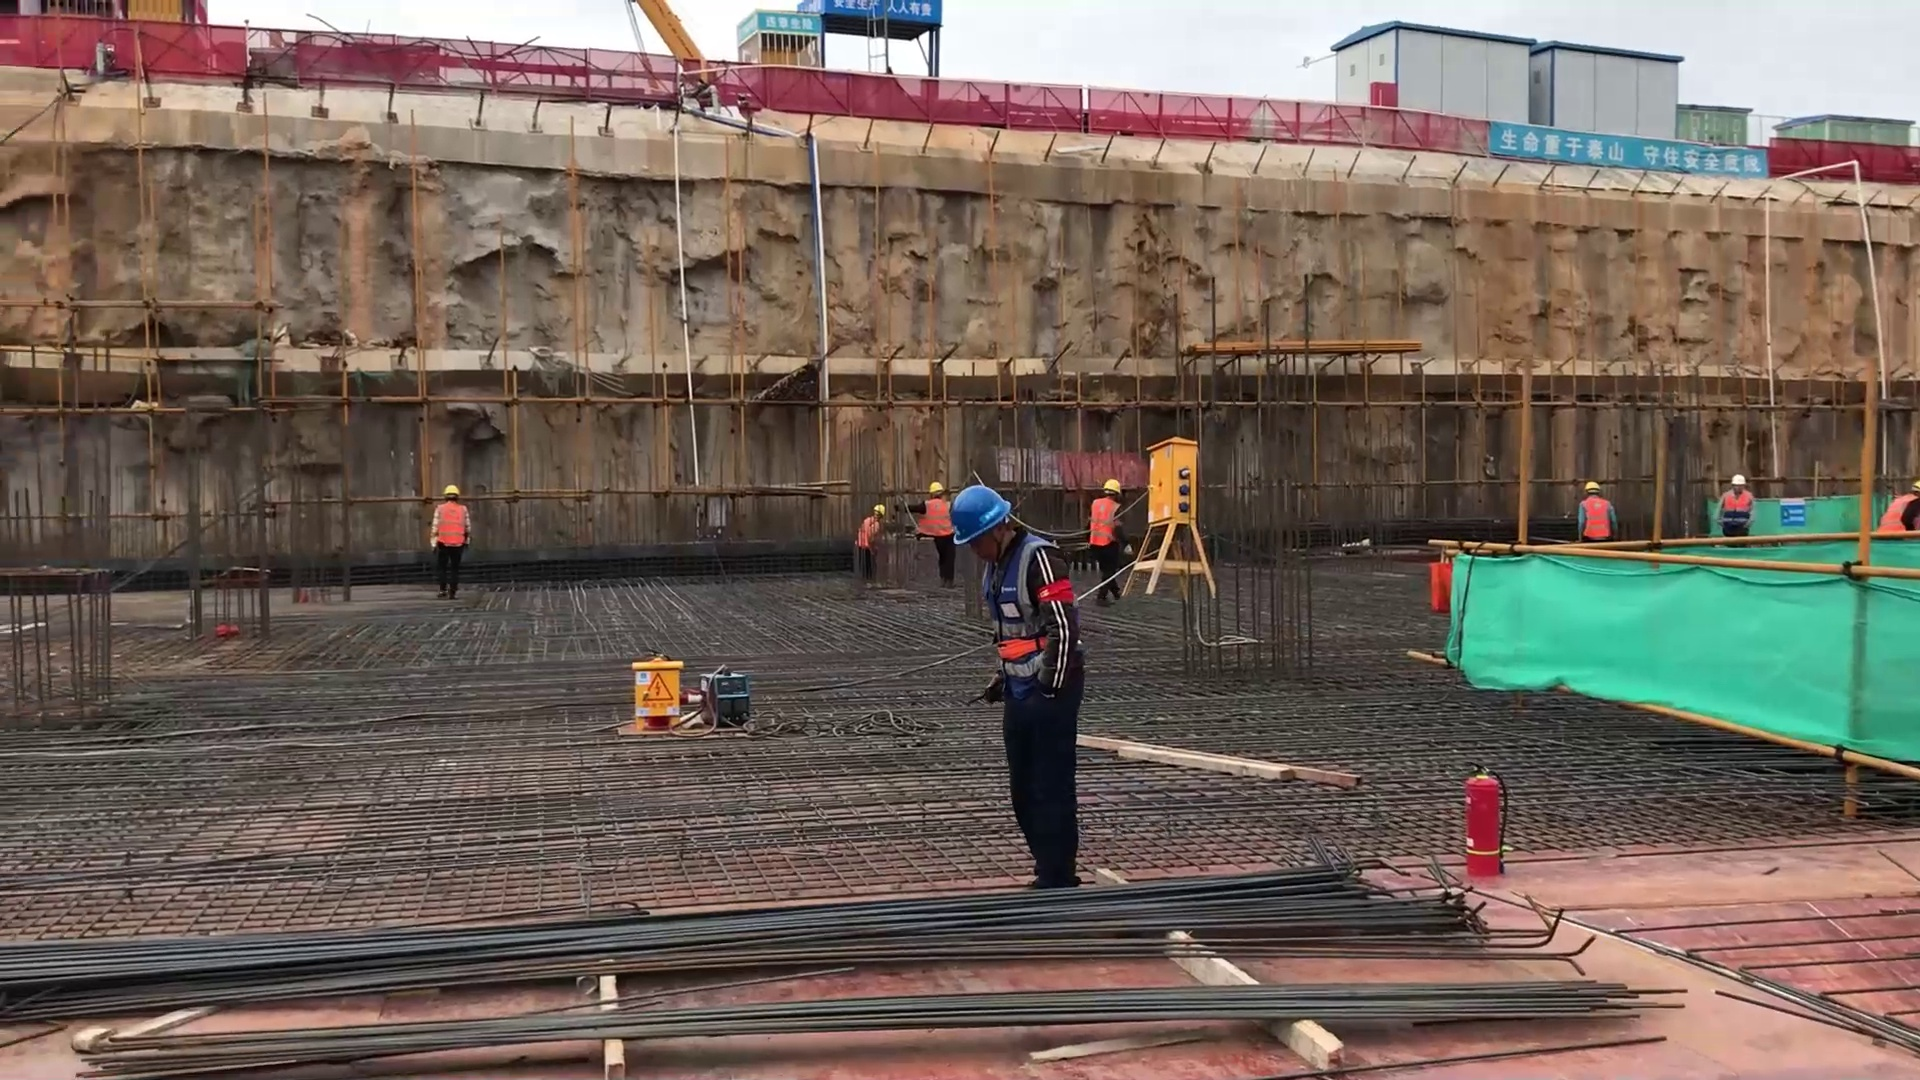ebox: (1120, 439, 1246, 606), (626, 653, 703, 733)
helmet: (940, 483, 1013, 543), (436, 482, 466, 501), (1102, 480, 1127, 497)
person: (942, 484, 1091, 895), (902, 482, 966, 592), (1082, 475, 1128, 609), (428, 480, 475, 604), (1572, 477, 1624, 553), (852, 502, 888, 593)
rebar: (17, 843, 1699, 1065)
vest: (988, 530, 1064, 683), (1087, 492, 1119, 556), (918, 495, 954, 551), (433, 498, 468, 551), (1581, 498, 1617, 546)
